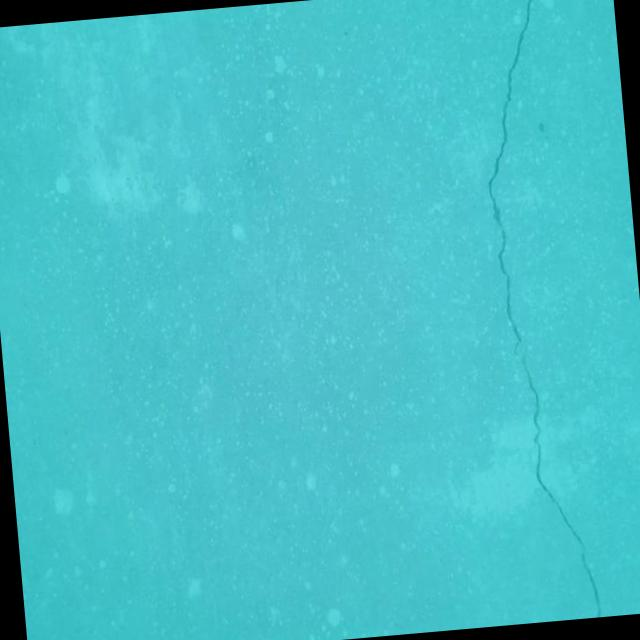crack: (469, 0, 602, 623)
